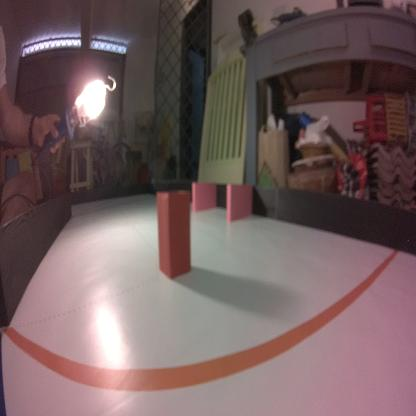magenta: (225, 181, 252, 222), (191, 181, 217, 211)
red: (155, 188, 194, 278)
